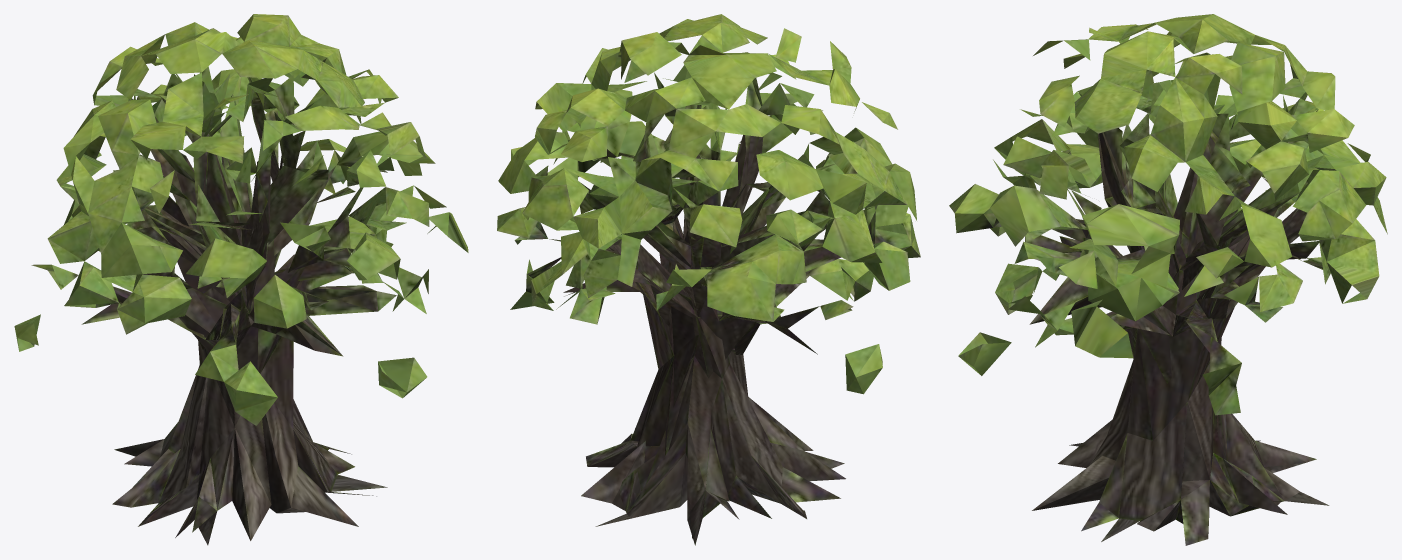
Rendered from oak.glb.
The picture shows the model from 3 angles, left to right: view 1: azimuth 30°, elevation 25°; view 2: azimuth 150°, elevation 25°; view 3: azimuth 270°, elevation 25°; orthographic projection.
Visible parts, largest first — view 1: output_unwrapped; view 2: output_unwrapped; view 3: output_unwrapped.
Boxes of the visible parts, <box> form: output_unwrapped: <box>14,14,468,545</box>; output_unwrapped: <box>497,14,920,545</box>; output_unwrapped: <box>949,14,1387,545</box>.
Size of the model in its own units: 1.72 by 1.89 by 1.64.
1 material, 1 textured.
